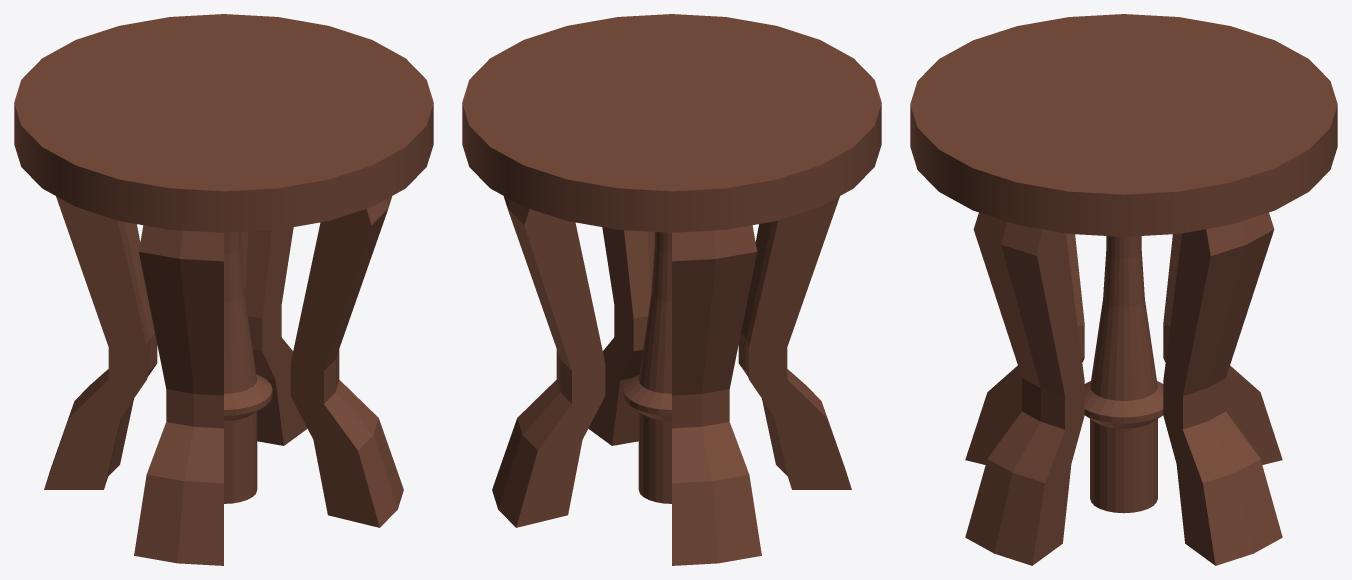
File: OBJ_EndTable_01.fbx
3 views of the same model, side by side, from view 1: azimuth 30°, elevation 25°; view 2: azimuth 150°, elevation 25°; view 3: azimuth 270°, elevation 25° (orthographic).
Visible parts, largest first — view 1: pCylinder1; view 2: pCylinder1; view 3: pCylinder1.
Part boxes in pixels (x1,y1,x2,y2): pCylinder1: (14,14,433,565); pCylinder1: (462,14,881,565); pCylinder1: (910,14,1337,565).
Size of the model in its own units: 27.5 by 28 by 27.5.
